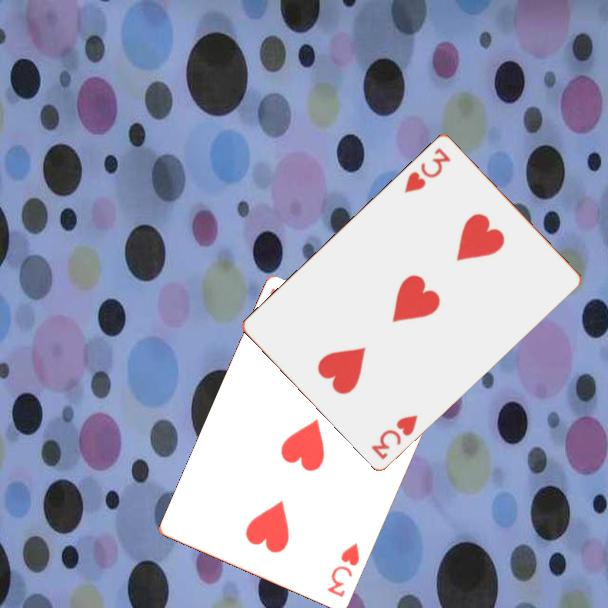h03: (401, 144, 454, 196), (367, 411, 421, 462), (324, 539, 362, 600)
